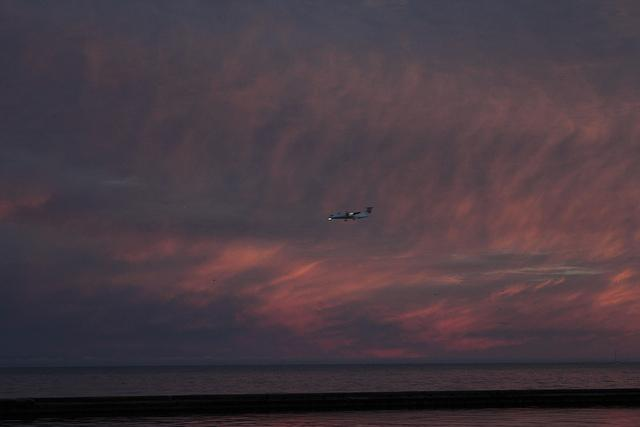airplane: (325, 204, 375, 222)
